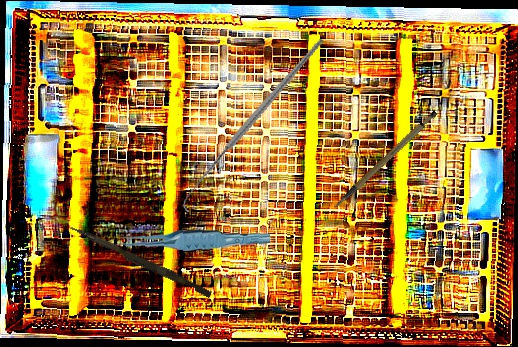Hook Surgical: (145, 38, 363, 213)
Pusher: (67, 224, 214, 299)
Scalpel Handle: (320, 108, 449, 209)
Tissue Forceps: (114, 223, 271, 256)
